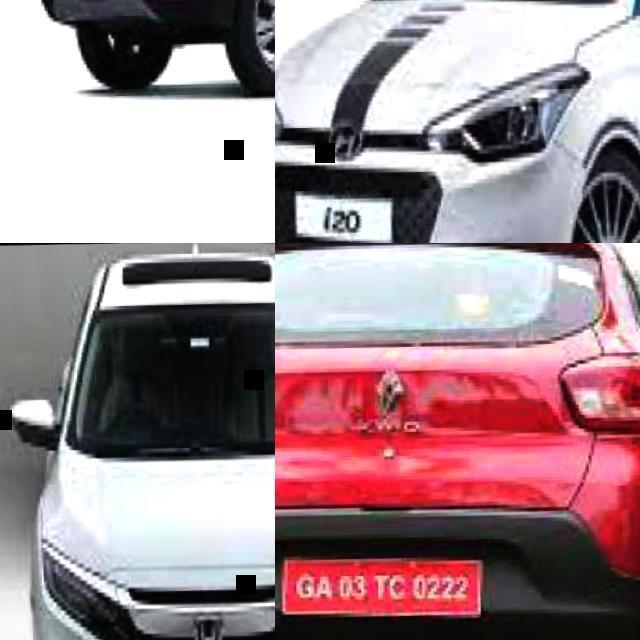car: (280, 255, 640, 629), (13, 247, 273, 639), (278, 3, 460, 153), (48, 0, 169, 88)
